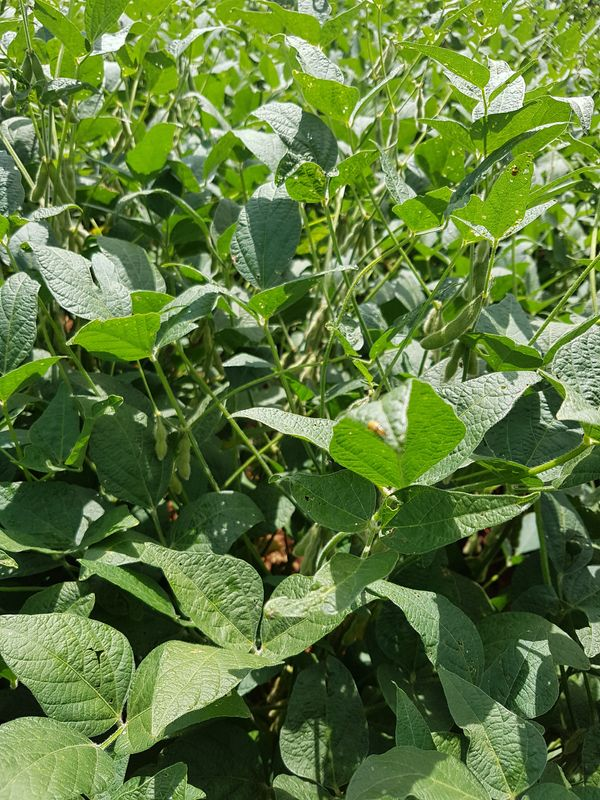Diabrotica_speciosa: (361, 415, 391, 443)
